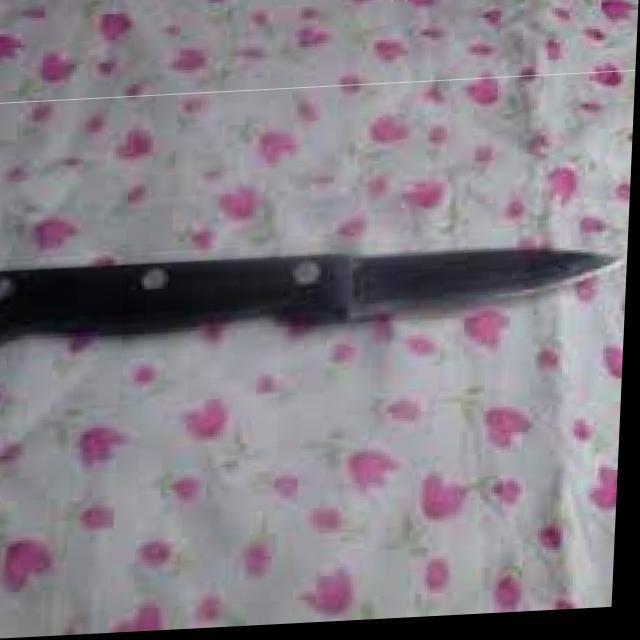Knife: (0, 77, 636, 408)
